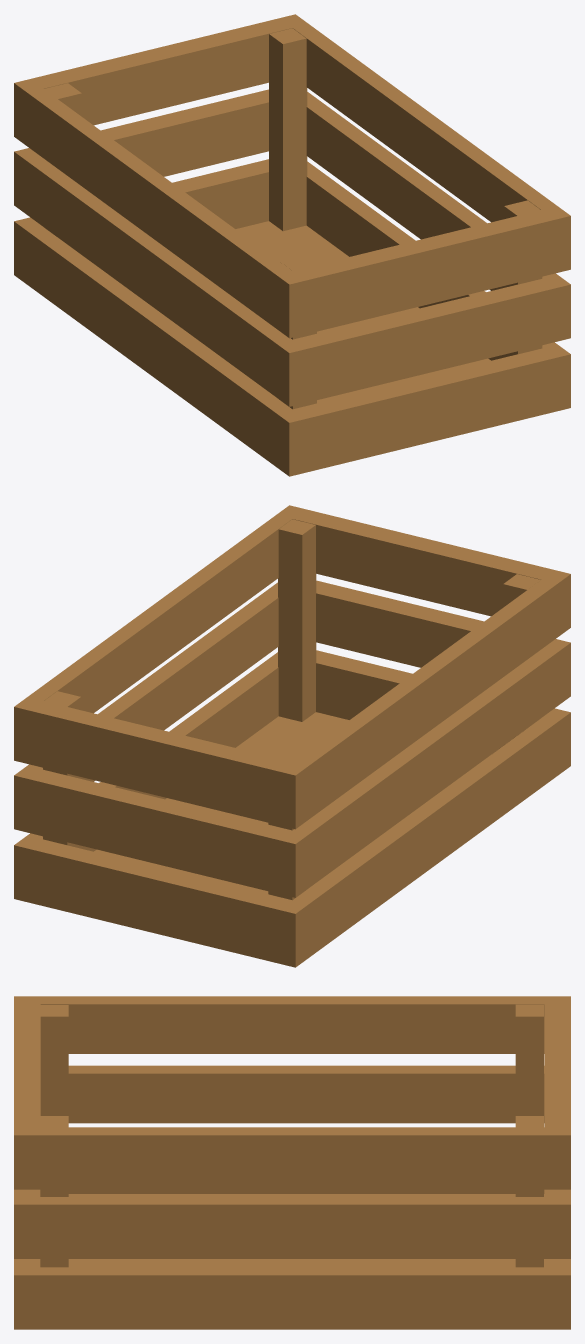
The picture shows the model from 3 angles, top to bottom: view 1: azimuth 30°, elevation 25°; view 2: azimuth 150°, elevation 25°; view 3: azimuth 270°, elevation 25°; orthographic projection.
Visible parts, largest first — view 1: Cube; view 2: Cube; view 3: Cube.
Part boxes in pixels (x1,y1,x2,y2): Cube: [14, 14, 570, 476]; Cube: [14, 505, 570, 967]; Cube: [14, 996, 570, 1329].
Size of the model in its own units: 257 by 436 by 168.
